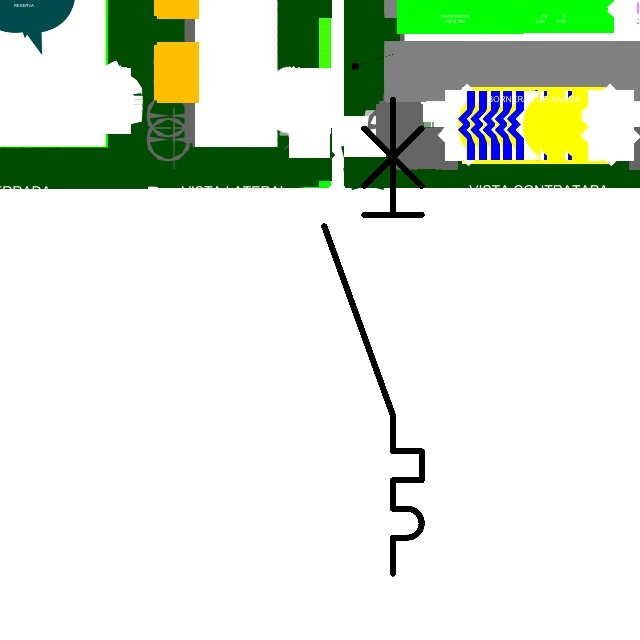interruptor_termomagnetico: (312, 87, 434, 586)
